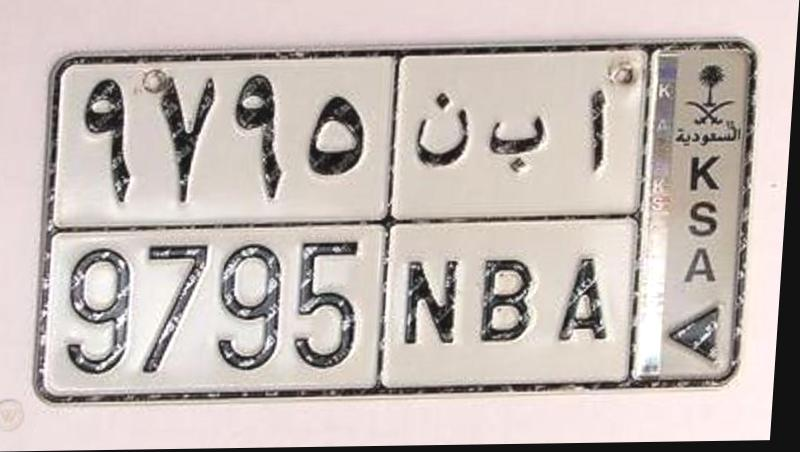License_Plate: (17, 30, 771, 411)
